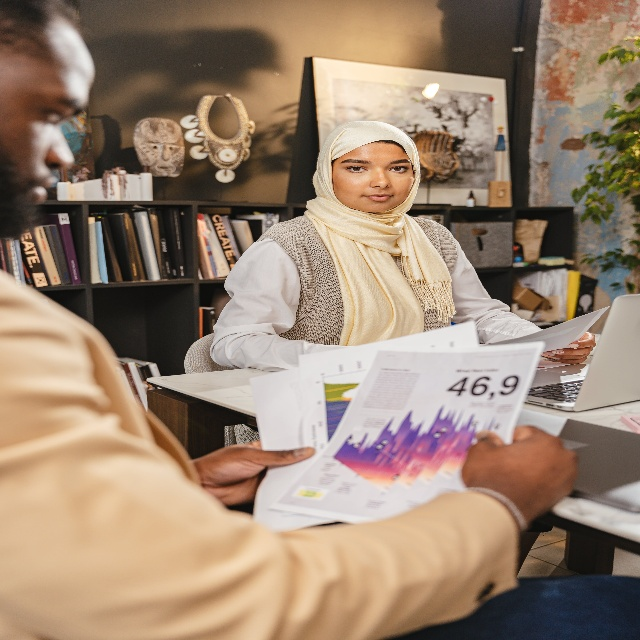Sin_guantes: (460, 422, 579, 510), (193, 440, 316, 508), (542, 337, 594, 369)
